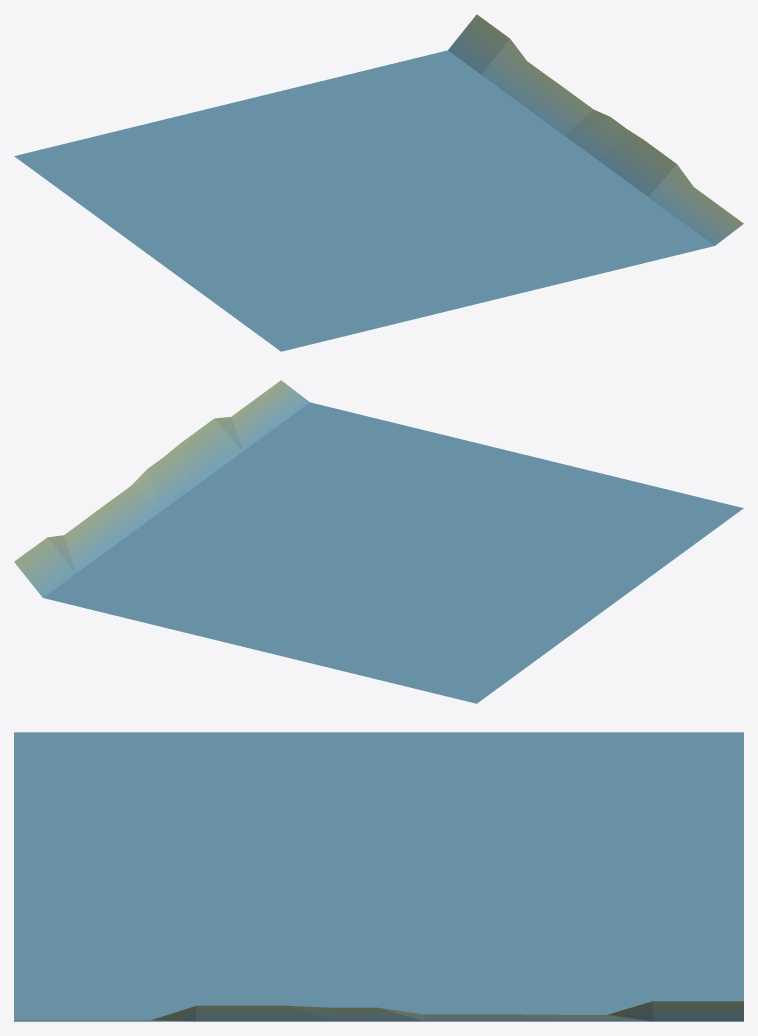
3 renders of one model, top to bottom at view 1: azimuth 30°, elevation 25°; view 2: azimuth 150°, elevation 25°; view 3: azimuth 270°, elevation 25°, orthographic. The views are drawn at different scales.
Size of the model in its own units: 32 by 1.92 by 32.
